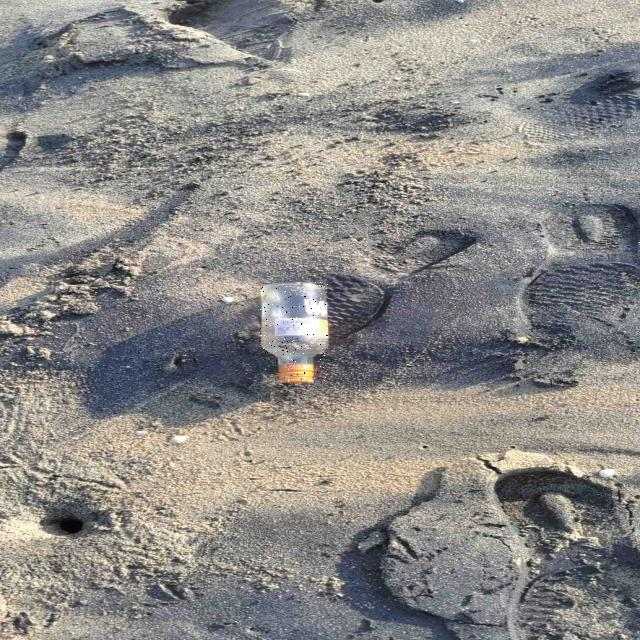glass: (260, 283, 328, 384)
